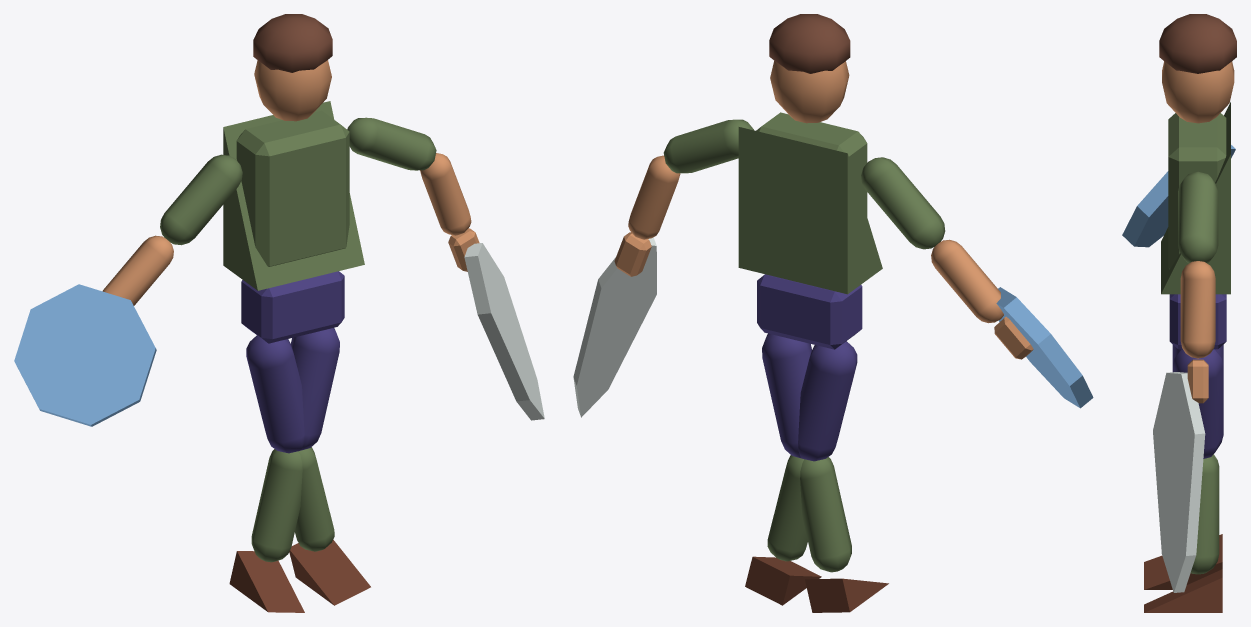
File: adventurer.rustic.glb
3 renders of one model, left to right at view 1: azimuth 30°, elevation 25°; view 2: azimuth 150°, elevation 25°; view 3: azimuth 270°, elevation 25°, orthographic.
Visible parts, largest first — view 1: accessory.off-hand, torso, tunic, accessory.main-hand, pelvis, thigh.left, shin.right, upper-arm.left, hair, thigh.right, head, upper-arm.right (+5 smaller); view 2: tunic, accessory.main-hand, pelvis, thigh.left, shin.right, upper-arm.left, hair, thigh.right, accessory.off-hand, head, forearm.left, upper-arm.right (+7 smaller); view 3: accessory.main-hand, torso, hair, upper-arm.right, head, forearm.right, tunic, shin.left, thigh.right, accessory.off-hand, foot.left, pelvis (+2 smaller).
Boxes of the visible parts, left/top/right/bottom form: accessory.off-hand: left=14, top=284, right=156, bottom=426; torso: left=236, top=110, right=349, bottom=266; tunic: left=223, top=101, right=364, bottom=290; accessory.main-hand: left=464, top=243, right=544, bottom=420; pelvis: left=241, top=271, right=344, bottom=343; thigh.left: left=246, top=335, right=304, bottom=453; shin.right: left=251, top=449, right=302, bottom=562; upper-arm.left: left=160, top=154, right=242, bottom=245; hair: left=253, top=14, right=332, bottom=72; thigh.right: left=291, top=328, right=339, bottom=450; head: left=254, top=60, right=331, bottom=121; upper-arm.right: left=347, top=117, right=436, bottom=170; tunic: left=738, top=127, right=882, bottom=294; accessory.main-hand: left=573, top=237, right=656, bottom=417; pelvis: left=757, top=274, right=862, bottom=349; thigh.left: left=798, top=341, right=857, bottom=461; shin.right: left=800, top=457, right=851, bottom=572; upper-arm.left: left=861, top=157, right=945, bottom=249; hair: left=769, top=14, right=850, bottom=73; thigh.right: left=762, top=333, right=811, bottom=458; accessory.off-hand: left=996, top=287, right=1093, bottom=408; head: left=770, top=61, right=849, bottom=123; forearm.left: left=931, top=239, right=1003, bottom=323; upper-arm.right: left=663, top=119, right=754, bottom=173; accessory.main-hand: left=1153, top=372, right=1205, bottom=592; torso: left=1168, top=113, right=1226, bottom=269; hair: left=1159, top=14, right=1236, bottom=73; upper-arm.right: left=1178, top=171, right=1218, bottom=263; head: left=1162, top=61, right=1234, bottom=123; forearm.right: left=1180, top=261, right=1215, bottom=358; tunic: left=1161, top=102, right=1230, bottom=294; shin.left: left=1190, top=455, right=1219, bottom=574; thigh.right: left=1172, top=349, right=1223, bottom=458; accessory.off-hand: left=1122, top=145, right=1235, bottom=247; foot.left: left=1144, top=569, right=1222, bottom=612; pelvis: left=1169, top=294, right=1226, bottom=349.
Bounding box in the file's own units: 2.83 × 3.01 × 0.5413.
